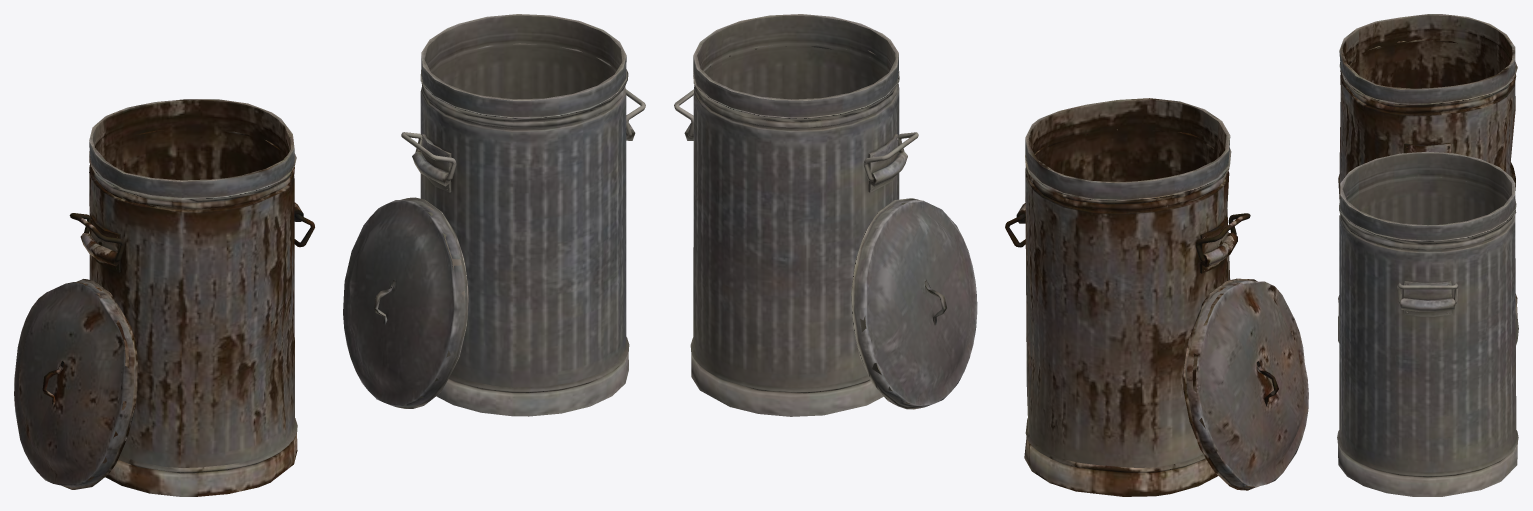
Rendered from metal_trash_can_1k.gltf.
3 views of the same model, side by side, from view 1: azimuth 30°, elevation 25°; view 2: azimuth 150°, elevation 25°; view 3: azimuth 270°, elevation 25° (orthographic). The views are drawn at different scales.
Visible parts, largest first — view 1: metal_trash_can, metal_trash_can_rust, metal_trash_can_lid, metal_trash_can_rust_lid; view 2: metal_trash_can, metal_trash_can_rust, metal_trash_can_lid, metal_trash_can_rust_lid; view 3: metal_trash_can, metal_trash_can_rust, metal_trash_can_handle_right.
Boxes of the visible parts, x1=… form: metal_trash_can: x1=412, y1=14, x2=635, y2=416; metal_trash_can_rust: x1=80, y1=99, x2=303, y2=496; metal_trash_can_lid: x1=343, y1=197, x2=468, y2=408; metal_trash_can_rust_lid: x1=14, y1=279, x2=137, y2=489; metal_trash_can: x1=684, y1=14, x2=907, y2=416; metal_trash_can_rust: x1=1016, y1=98, x2=1237, y2=496; metal_trash_can_lid: x1=851, y1=198, x2=977, y2=409; metal_trash_can_rust_lid: x1=1183, y1=278, x2=1308, y2=490; metal_trash_can: x1=1337, y1=151, x2=1518, y2=496; metal_trash_can_rust: x1=1338, y1=14, x2=1517, y2=319; metal_trash_can_handle_right: x1=1397, y1=283, x2=1458, y2=303.
Size of the model in its own units: 1.78 by 0.9062 by 0.5533.
Materials: 3 (3 with a texture image).
